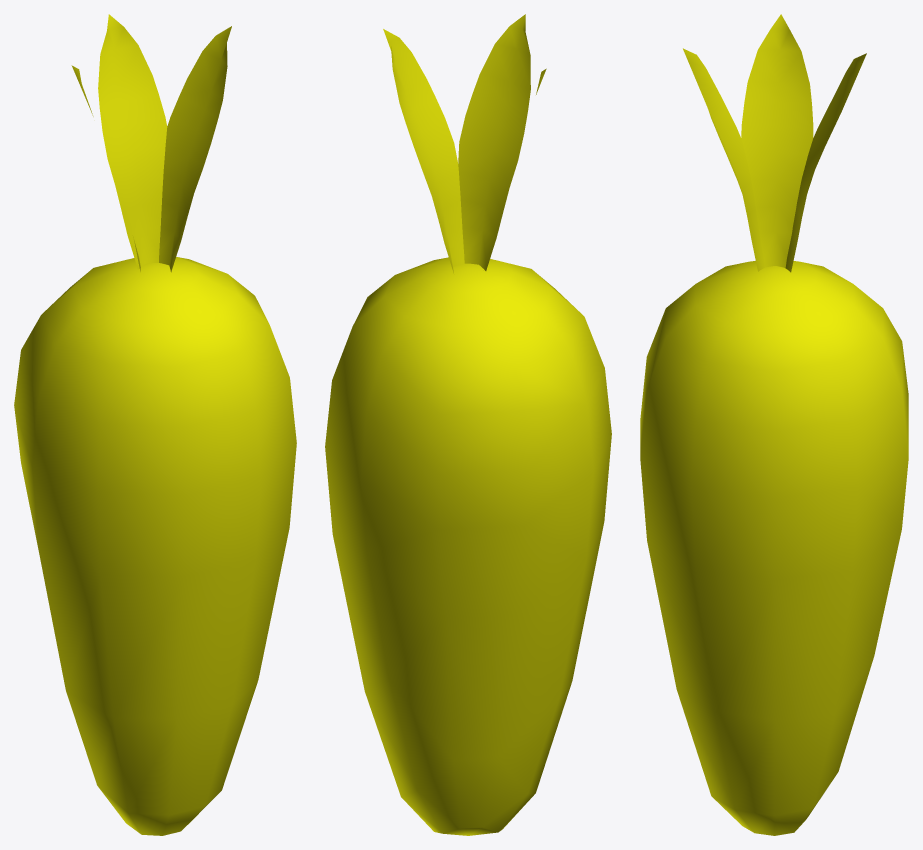
File: Carrot.glb
The picture shows the model from 3 angles, left to right: view 1: azimuth 30°, elevation 25°; view 2: azimuth 150°, elevation 25°; view 3: azimuth 270°, elevation 25°; orthographic projection. The views are drawn at different scales.
Parts seen in each view (by area): view 1: polySurface723; view 2: polySurface723; view 3: polySurface723.
Boxes of the visible parts, left/top/right/bottom form: polySurface723: left=14, top=14, right=296, bottom=835; polySurface723: left=325, top=14, right=611, bottom=835; polySurface723: left=640, top=14, right=908, bottom=835.
Size of the model in its own units: 0.2514 by 0.7597 by 0.2391.
Materials: 1 (1 with a texture image).
